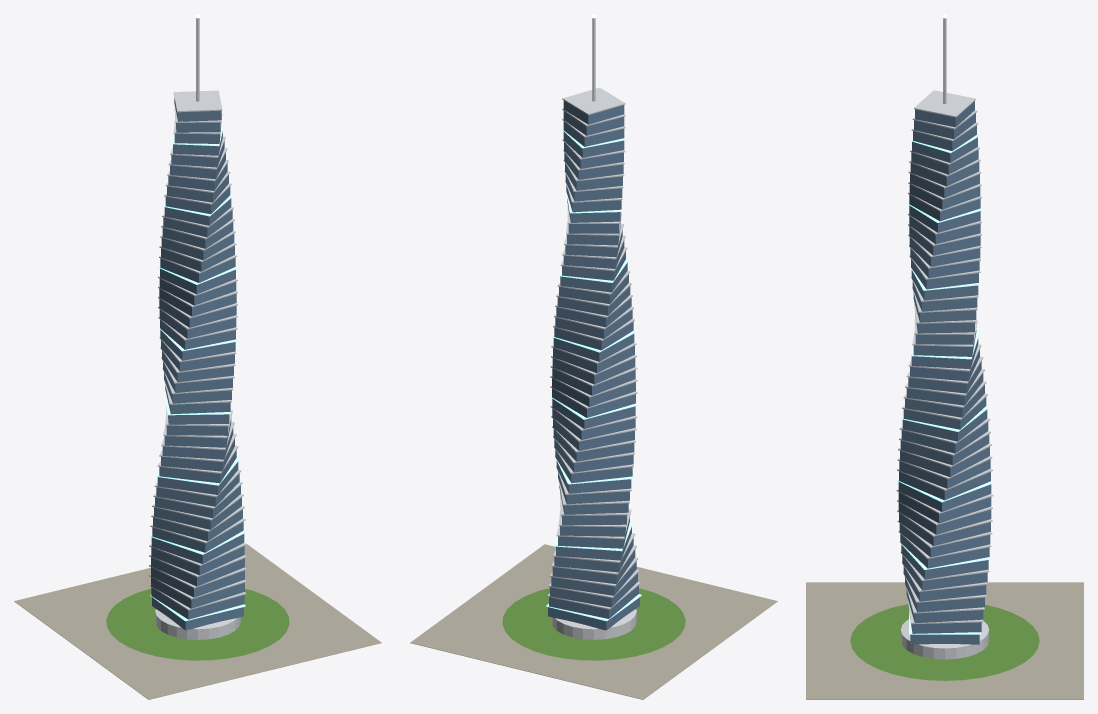
Rendered from future_tower.glb.
3 renders of one model, left to right at view 1: azimuth 30°, elevation 25°; view 2: azimuth 150°, elevation 25°; view 3: azimuth 270°, elevation 25°, orthographic. The views are drawn at different scales.
Visible parts, largest first — view 1: Future_static; view 2: Future_static; view 3: Future_static.
Boxes of the visible parts, x1,y1,x2,y2 form: Future_static: (14,14,381,699); Future_static: (410,14,777,699); Future_static: (806,14,1083,699).
Bounding box in the file's own units: 88 × 219 × 88.
